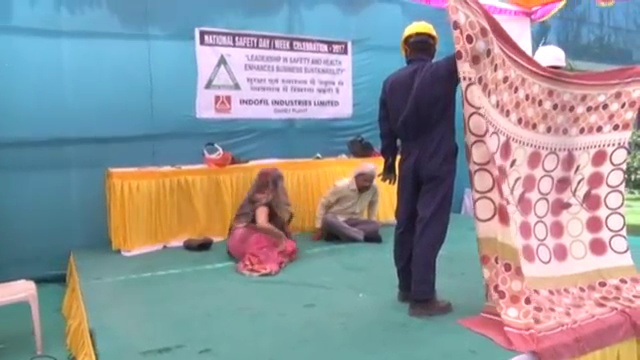helmet: (400, 20, 438, 46), (533, 44, 568, 69)
helmet_off: (351, 161, 375, 195), (258, 165, 286, 192)
helmet_on: (398, 21, 439, 62)
person: (374, 19, 463, 317), (227, 165, 298, 280), (312, 162, 381, 245)
